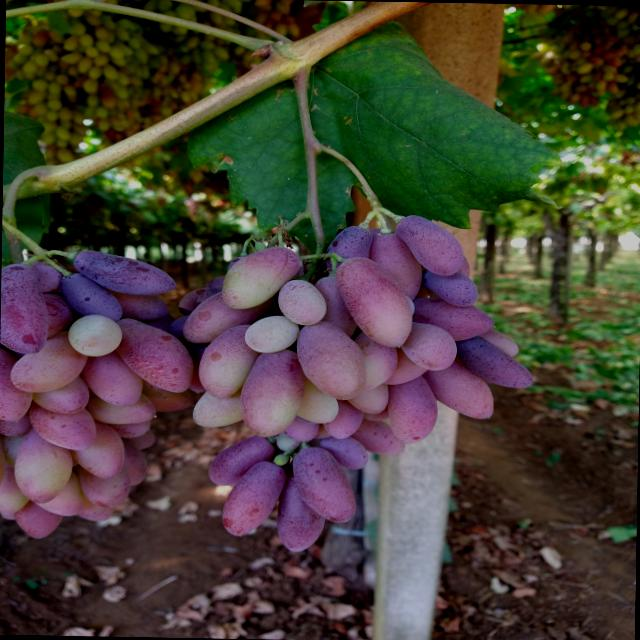grapes: (334, 257, 414, 348), (112, 317, 194, 393), (182, 282, 278, 346), (240, 347, 306, 438), (296, 320, 368, 400), (222, 460, 288, 538), (220, 246, 300, 310), (8, 330, 88, 394), (289, 446, 356, 522), (73, 249, 176, 296), (198, 324, 262, 399), (13, 428, 73, 503), (422, 358, 494, 420), (0, 263, 49, 353), (395, 214, 463, 276), (454, 336, 534, 388), (366, 228, 422, 302), (275, 476, 326, 551), (409, 299, 494, 342), (386, 375, 438, 445), (208, 435, 276, 486), (80, 350, 142, 405), (28, 401, 96, 451), (70, 418, 124, 479), (61, 272, 122, 322), (312, 276, 358, 340), (399, 322, 456, 371), (352, 332, 398, 392), (76, 458, 130, 508), (84, 389, 156, 425), (0, 345, 33, 423), (30, 469, 84, 516), (29, 374, 89, 415), (325, 224, 372, 276), (277, 278, 327, 326), (104, 285, 170, 321), (67, 314, 121, 357), (192, 388, 248, 428), (243, 314, 300, 353), (420, 269, 477, 307), (140, 375, 194, 413), (349, 420, 405, 456), (12, 499, 62, 539), (296, 378, 338, 424), (382, 346, 426, 386), (0, 462, 32, 515), (110, 438, 146, 485), (322, 398, 363, 438), (320, 436, 368, 470), (21, 258, 64, 294), (40, 292, 72, 340), (346, 382, 388, 414), (474, 329, 518, 356), (74, 496, 114, 522), (282, 415, 320, 442), (178, 286, 210, 316), (0, 406, 32, 436), (168, 316, 204, 342), (4, 433, 28, 468), (107, 419, 150, 438), (195, 284, 226, 308), (120, 429, 154, 450), (275, 432, 301, 451), (312, 422, 334, 440), (362, 406, 390, 420), (0, 433, 6, 498), (204, 276, 226, 291), (0, 509, 18, 520)
